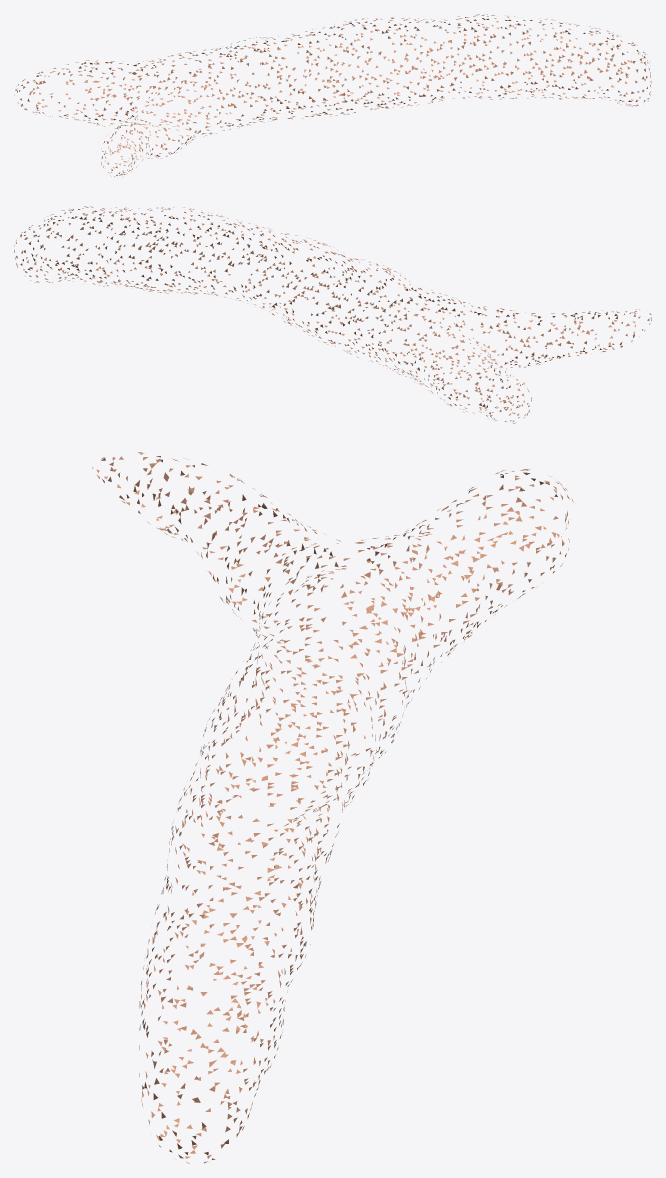
Rendered from morph_004.glb.
3 views of the same model, one above another, from view 1: azimuth 30°, elevation 25°; view 2: azimuth 150°, elevation 25°; view 3: azimuth 270°, elevation 25° (orthographic). The views are drawn at different scales.
Size of the model in its own units: 129 by 27.05 by 47.9.
